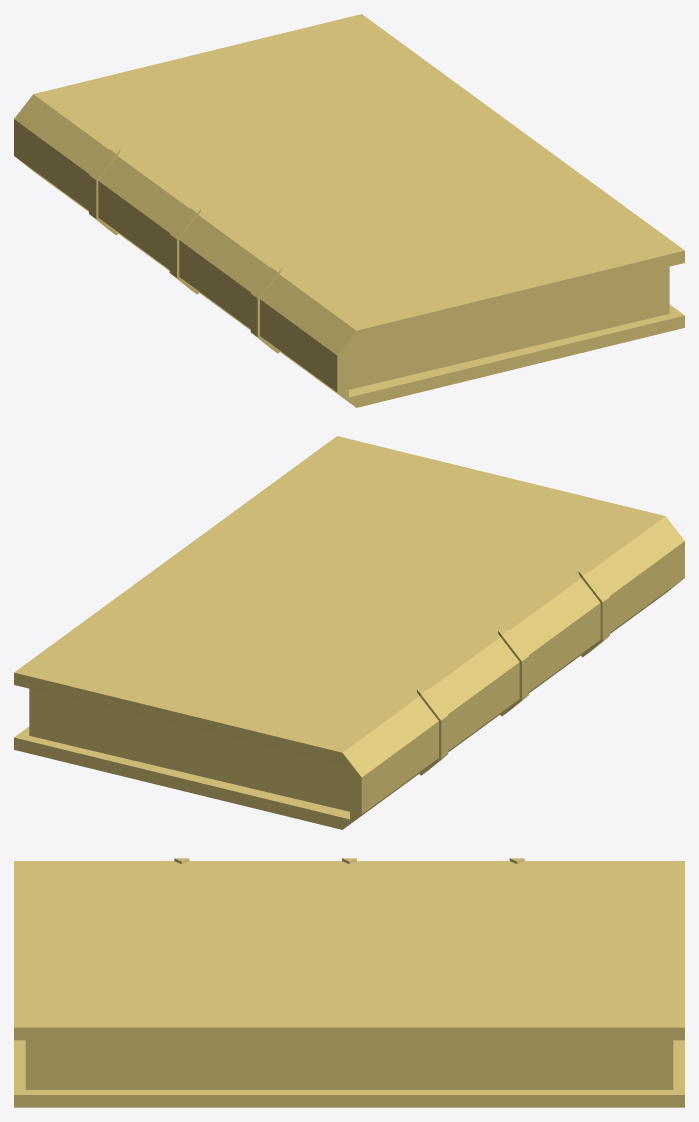
Rendered from Book.007.fbx.
3 views of the same model, one above another, from view 1: azimuth 30°, elevation 25°; view 2: azimuth 150°, elevation 25°; view 3: azimuth 270°, elevation 25° (orthographic). The views are drawn at different scales.
Parts seen in each view (by area): view 1: Book.007; view 2: Book.007; view 3: Book.007.
Boxes of the visible parts, x1,y1,x2,y2 form: Book.007: [14, 14, 684, 407]; Book.007: [14, 436, 684, 829]; Book.007: [14, 858, 684, 1107].
Size of the model in its own units: 33.22 by 7.45 by 53.14.
